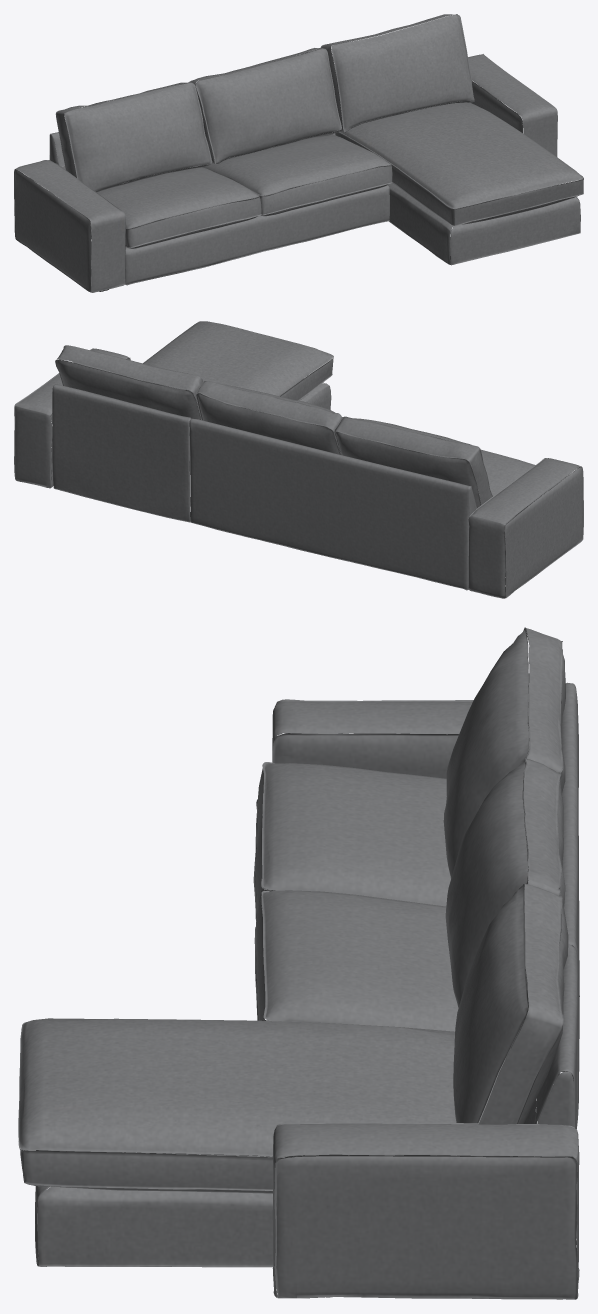
Rendered from kivik_sofa_4_osobowa_z_szezlongiem_99440585.glb.
3 renders of one model, top to bottom at view 1: azimuth 30°, elevation 25°; view 2: azimuth 150°, elevation 25°; view 3: azimuth 270°, elevation 25°, orthographic. The views are drawn at different scales.
Parts seen in each view (by area): view 1: kivik_sofa_4_osobowa_z_szezlongiem_99440585; view 2: kivik_sofa_4_osobowa_z_szezlongiem_99440585; view 3: kivik_sofa_4_osobowa_z_szezlongiem_99440585.
Part boxes in pixels (x1=…): kivik_sofa_4_osobowa_z_szezlongiem_99440585: x1=14, y1=14, x2=583, y2=292; kivik_sofa_4_osobowa_z_szezlongiem_99440585: x1=14, y1=321, x2=583, y2=598; kivik_sofa_4_osobowa_z_szezlongiem_99440585: x1=18, y1=627, x2=579, y2=1299.
Bounding box in the file's own units: 3.18 × 0.8679 × 1.65.
Materials: 1 (1 with a texture image).
